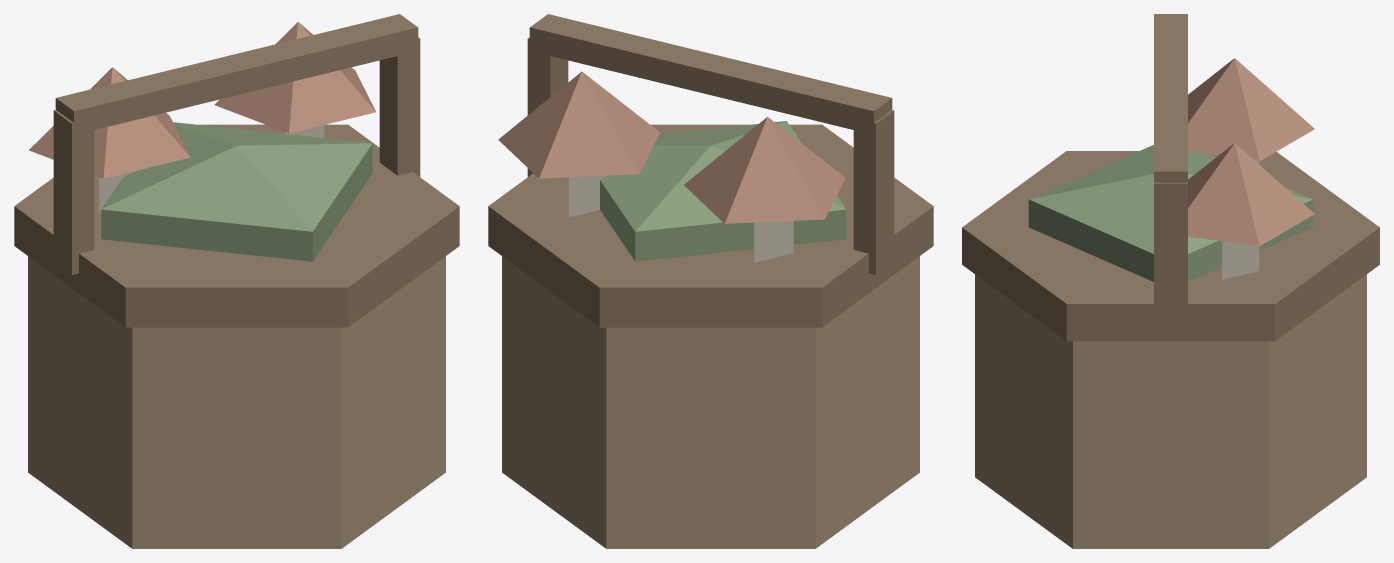
File: forage-basket.glb
3 views of the same model, side by side, from view 1: azimuth 30°, elevation 25°; view 2: azimuth 150°, elevation 25°; view 3: azimuth 270°, elevation 25° (orthographic). The views are drawn at different scales.
Parts seen in each view (by area): view 1: forage_basket; view 2: forage_basket; view 3: forage_basket.
Part boxes in pixels (x1,y1,x2,y2): forage_basket: [14, 14, 459, 548]; forage_basket: [488, 14, 933, 548]; forage_basket: [962, 14, 1379, 548].
Bounding box in the file's own units: 0.1283 × 0.1442 × 0.142.
